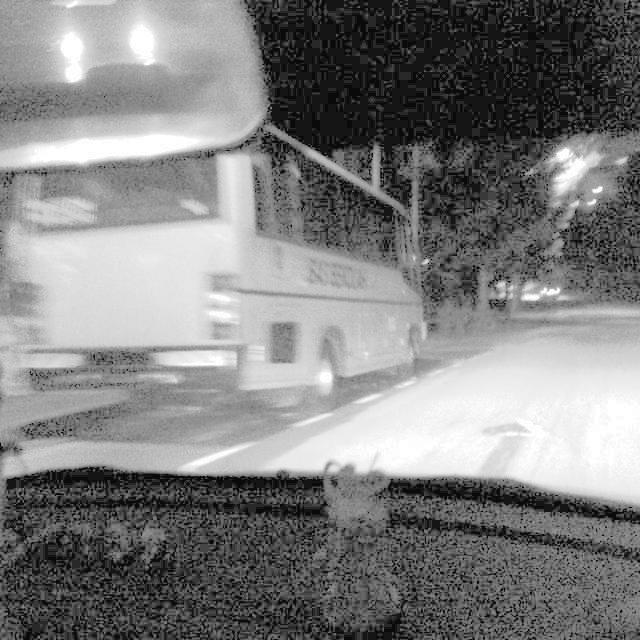Bus: (0, 121, 432, 421)
